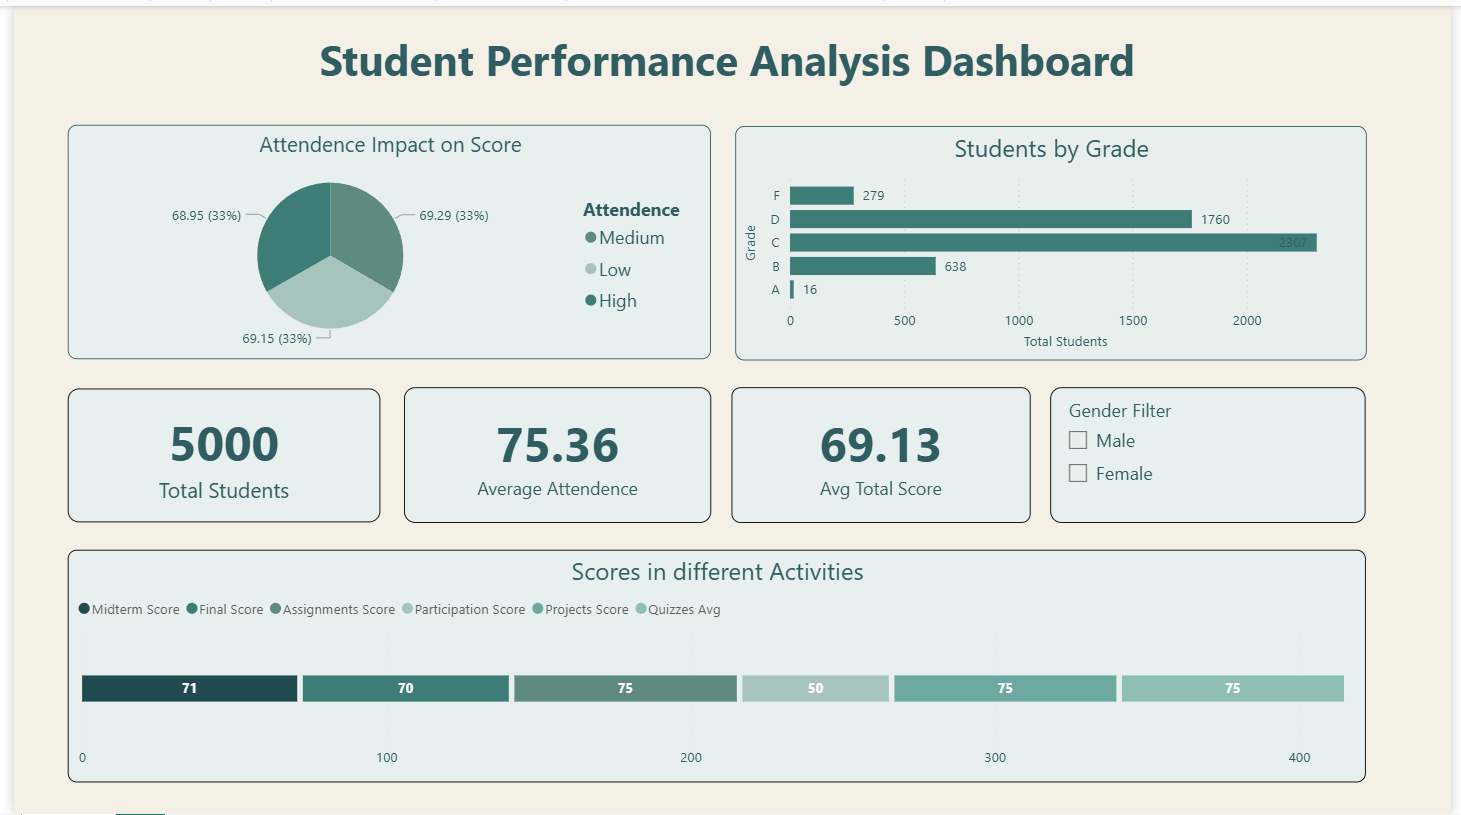

The dashboard page shown, as its layout file describes it:
{"tool":"powerbi","page":{"name":"Page 1","canvas":[1280,720],"ordinal":0},"visuals":[{"type":"card","fields":{"Values":["student performance dataset - Copy.Total Students"]},"box":[48.3,340.2,278.7,119.4],"z":0},{"type":"card","fields":{"Values":["student performance dataset - Copy.Avg Attendence"]},"box":[347.5,339,273.9,120.6],"z":1000},{"type":"barChart","title":"Scores in different Activities","fields":{"Y":["Avg(student performance dataset - Copy.Midterm_Score)","Avg(student performance dataset - Copy.Final_Score)","Avg(student performance dataset - Copy.Assignments_Avg)","Avg(student performance dataset - Copy.Participation_Score)","Avg(student performance dataset - Copy.Projects_Score)","Avg(student performance dataset - Copy.Quizzes_Avg)"]},"box":[48.3,483.8,1155.8,207.5],"z":2000},{"type":"clusteredBarChart","title":"Students by Grade","fields":{"Category":["student performance dataset - Copy.Grade"],"Y":["student performance dataset - Copy.Total Students"]},"box":[641.8,107.4,562.2,208.7],"z":3000},{"type":"pieChart","title":"Attendence Impact on Score","fields":{"Category":["student performance dataset - Copy.Attendence Category"],"Y":["Avg(student performance dataset - Copy.Total_Score)"]},"box":[48.3,106.2,573.1,208.7],"z":4000},{"type":"textbox","box":[57.9,0,1154.6,96.5],"z":5000},{"type":"slicer","fields":{"Values":["student performance dataset - Copy.Gender"]},"box":[922.9,339,281.1,120.6],"z":6000},{"type":"card","fields":{"Values":["student performance dataset - Copy.Avg Total Score"]},"box":[639.4,339,266.6,120.6],"z":7000}]}

Visuals, with their boxes in screenshot pixels (x1, y1, x2, y2), scaled from the page's 1280x720 canvas onto the 1461x815 screenshot:
card - student performance dataset - Copy.Total Students: <region>55, 385, 373, 520</region>
card - student performance dataset - Copy.Avg Attendence: <region>397, 384, 709, 520</region>
"Scores in different Activities" barChart: <region>55, 548, 1374, 783</region>
"Students by Grade" clusteredBarChart: <region>733, 122, 1374, 358</region>
"Attendence Impact on Score" pieChart: <region>55, 120, 709, 356</region>
textbox: <region>66, 0, 1384, 109</region>
slicer - student performance dataset - Copy.Gender: <region>1053, 384, 1374, 520</region>
card - student performance dataset - Copy.Avg Total Score: <region>730, 384, 1034, 520</region>
